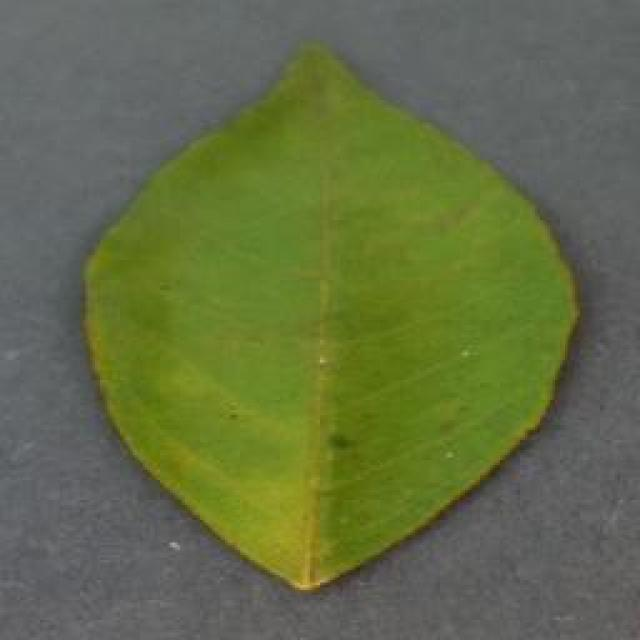Orange_Haunglongbing_Citrus_greening: (136, 124, 506, 511)
